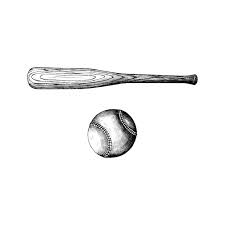baseball bat: (25, 67, 198, 90)
